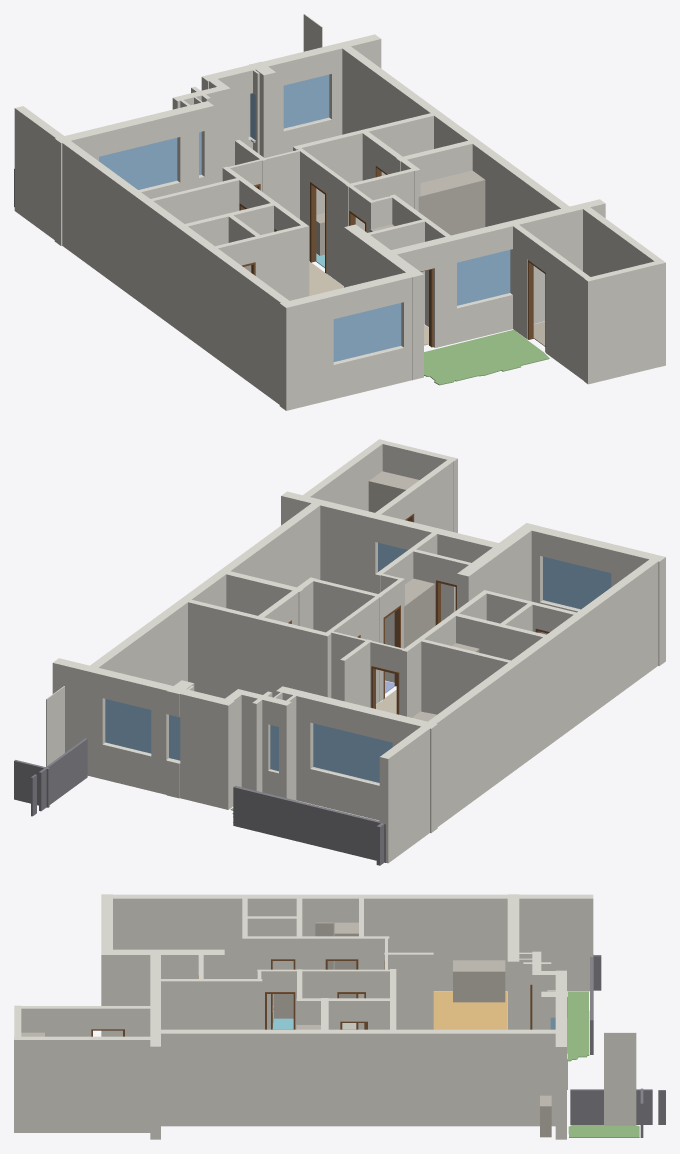
3 views of the same model, one above another, from view 1: azimuth 30°, elevation 25°; view 2: azimuth 150°, elevation 25°; view 3: azimuth 270°, elevation 25° (orthographic). The views are drawn at different scales.
Parts seen in each view (by area): view 1: walls, floor_14_Outdoor, furniture_3_closet, window_1, window_2, window_3, window_14, door_8, floor_4_Entry, door_5; view 2: walls, railings, window_2, window_1, window_14, furniture_5_closet, furniture_6_closet; view 3: walls, railings, floor_1_Kitchen, furniture_8_appliance, floor_13_Outdoor, floor_12_Outdoor, furniture_0_closet, furniture_7_appliance, furniture_17_sink.
Boxes of the visible parts, left/top/right/bottom form: walls: left=14, top=14, right=665, bottom=410; floor_14_Outdoor: left=424, top=330, right=549, bottom=385; furniture_3_closet: left=418, top=170, right=485, bottom=235; window_1: left=333, top=303, right=401, bottom=361; window_2: left=99, top=138, right=177, bottom=189; window_3: left=457, top=250, right=510, bottom=305; window_14: left=283, top=74, right=329, bottom=128; door_8: left=310, top=181, right=326, bottom=273; floor_4_Entry: left=309, top=261, right=343, bottom=295; door_5: left=527, top=260, right=545, bottom=352; walls: left=46, top=439, right=665, bottom=863; railings: left=14, top=738, right=385, bottom=865; window_2: left=313, top=723, right=392, bottom=782; window_1: left=543, top=556, right=611, bottom=609; window_14: left=105, top=699, right=151, bottom=753; furniture_5_closet: left=404, top=578, right=434, bottom=648; furniture_6_closet: left=368, top=471, right=419, bottom=520; walls: left=14, top=894, right=636, bottom=1139; railings: left=570, top=954, right=665, bottom=1137; floor_1_Kitchen: left=433, top=991, right=507, bottom=1029; furniture_8_appliance: left=453, top=960, right=505, bottom=1002; floor_13_Outdoor: left=567, top=991, right=589, bottom=1061; floor_12_Outdoor: left=568, top=1125, right=639, bottom=1137; furniture_0_closet: left=334, top=922, right=358, bottom=998; furniture_7_appliance: left=540, top=1095, right=551, bottom=1137; furniture_17_sink: left=274, top=994, right=293, bottom=1018.
Bounding box in the file's own units: 9.52 × 2.72 × 17.18.
